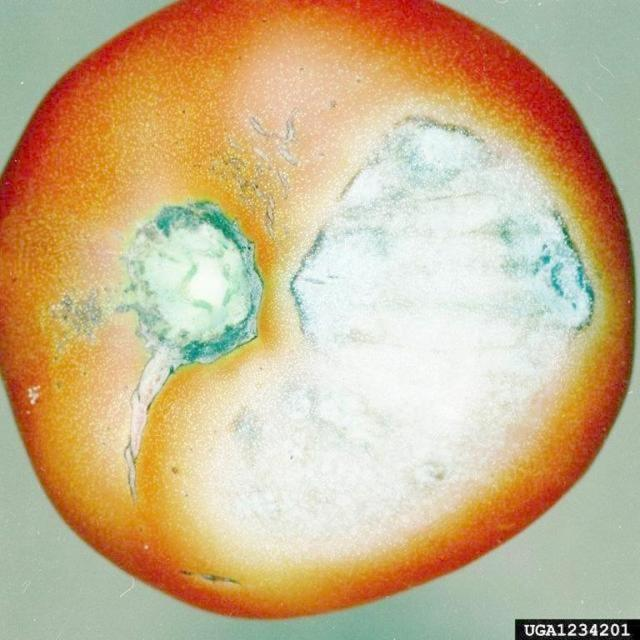Sunscald Fruit: (137, 73, 400, 382)
